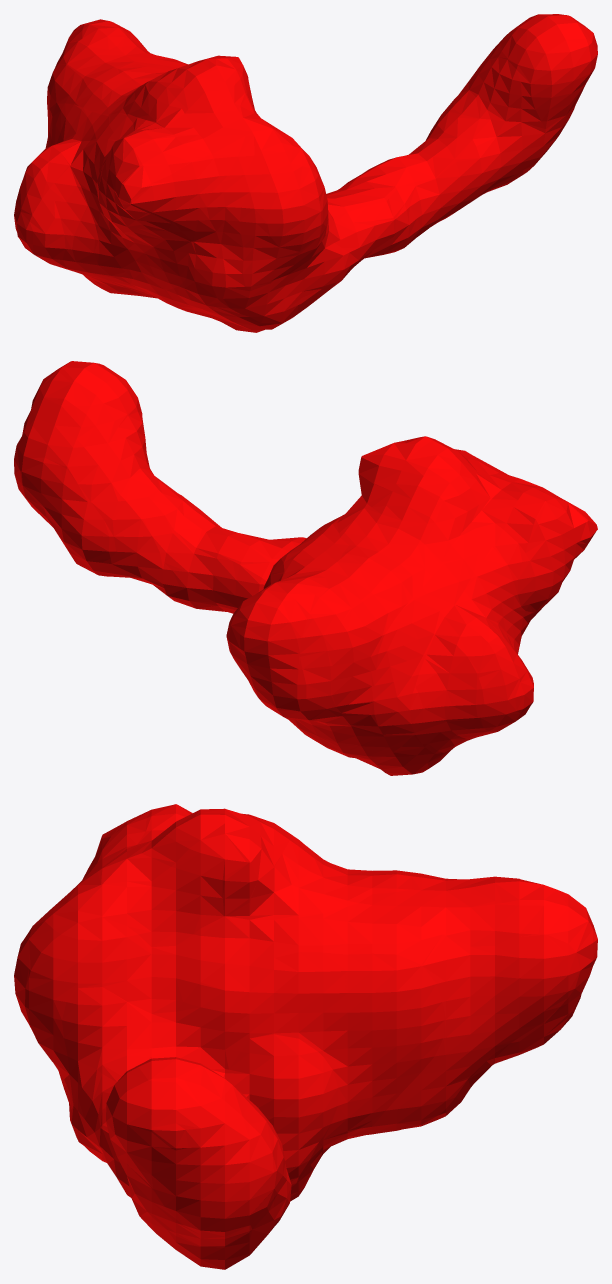
Rendered from smpB_coarse.dae.
3 renders of one model, top to bottom at view 1: azimuth 30°, elevation 25°; view 2: azimuth 150°, elevation 25°; view 3: azimuth 270°, elevation 25°, orthographic. The views are drawn at different scales.
Parts seen in each view (by area): view 1: smpB; view 2: smpB; view 3: smpB.
Part boxes in pixels (x1=…): smpB: x1=14, y1=14, x2=597, y2=332; smpB: x1=14, y1=361, x2=597, y2=775; smpB: x1=14, y1=804, x2=597, y2=1269.
Size of the model in its own units: 72.99 by 37.93 by 53.41.
